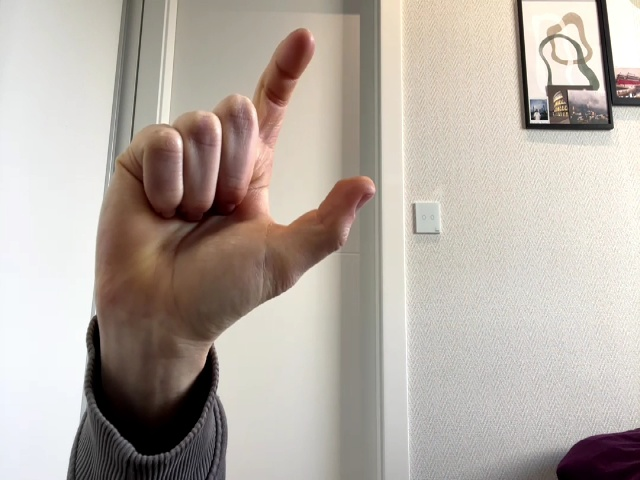C: (96, 29, 375, 339)
